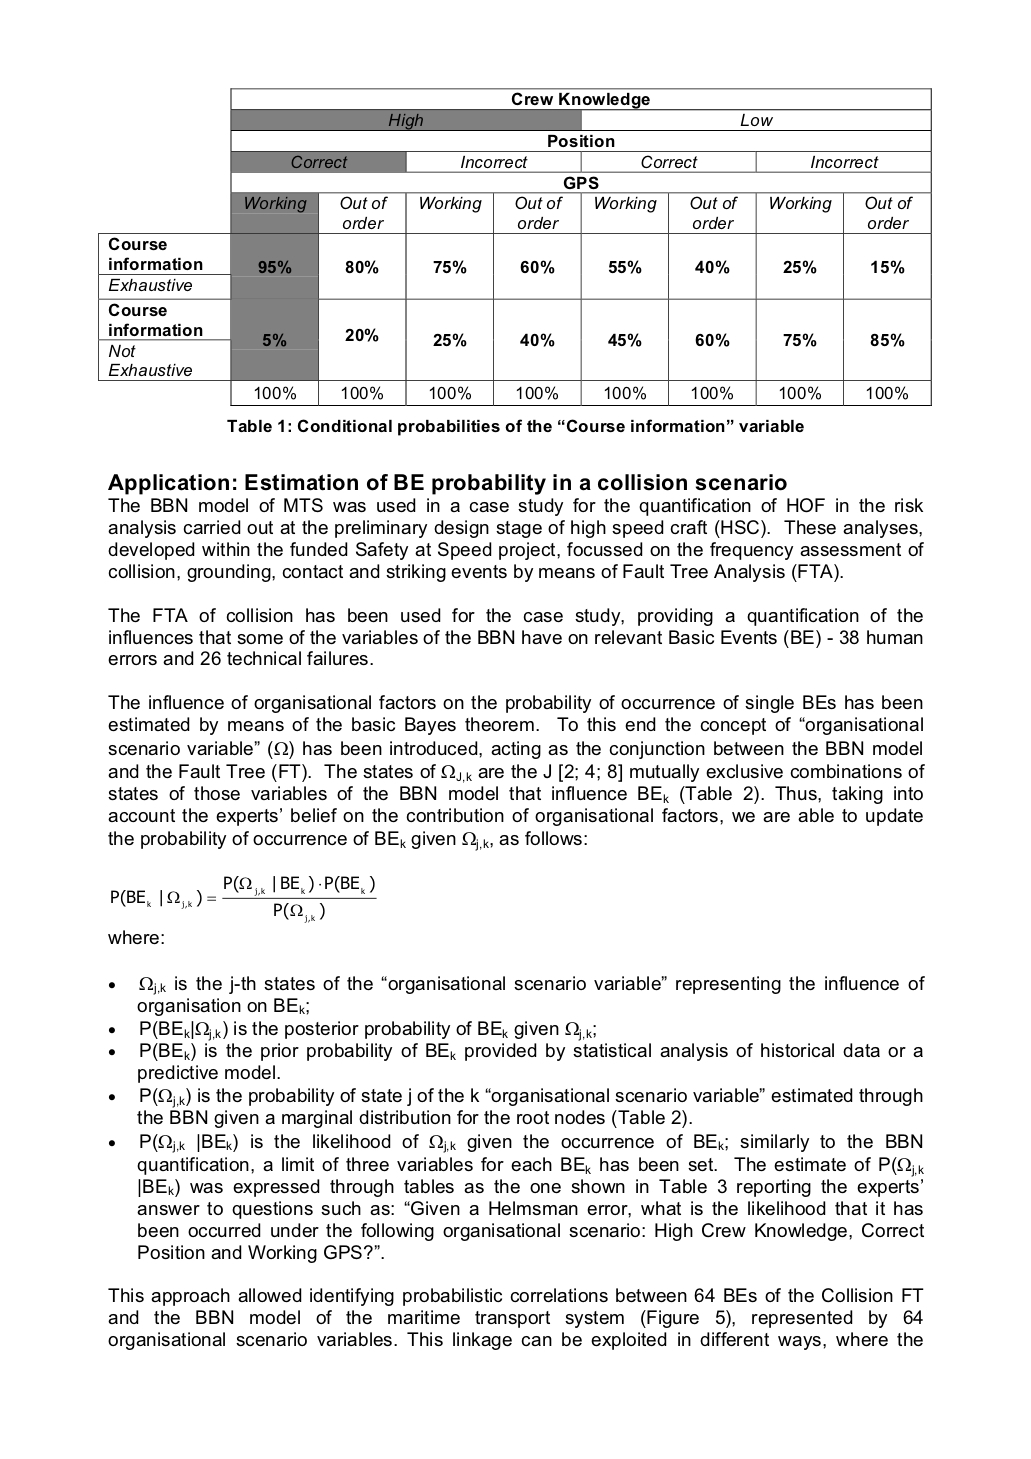Table: (98, 87, 931, 406)
formula: (110, 875, 376, 922)
